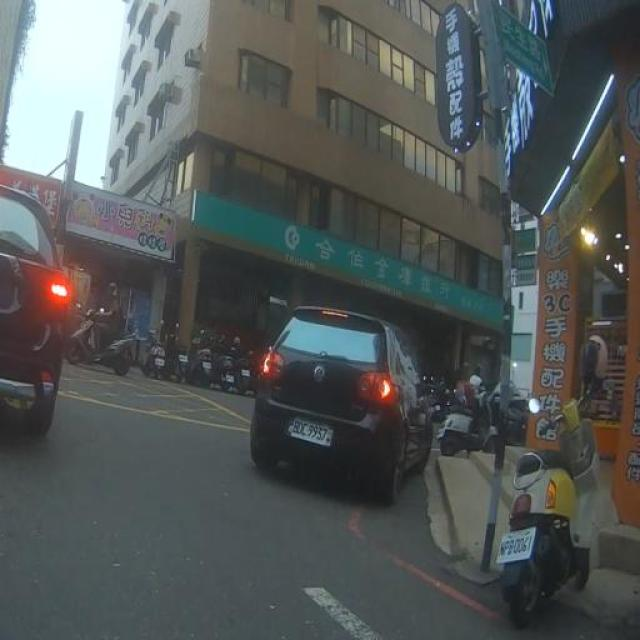Legalparking: (88, 300, 260, 396)
illegalparking: (236, 289, 436, 543)
